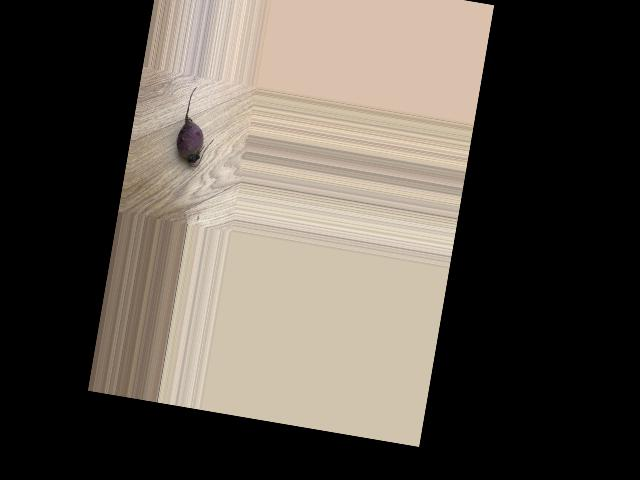beet: (172, 84, 221, 169)
